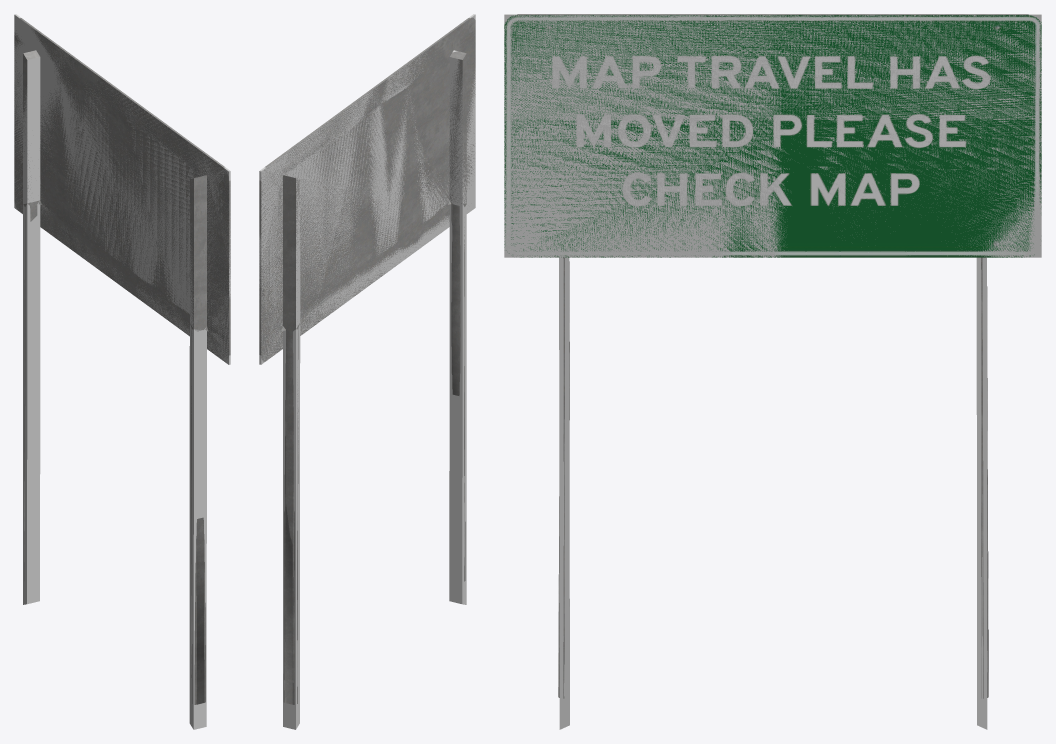
Rendered from rlsstandingsign2.dae.
3 renders of one model, left to right at view 1: azimuth 30°, elevation 25°; view 2: azimuth 150°, elevation 25°; view 3: azimuth 270°, elevation 25°, orthographic. The views are drawn at different scales.
Parts seen in each view (by area): view 1: Colmesh-1, rlssignS2_a50, rlssignS2_a500, rlssignS2_a250; view 2: Colmesh-1, rlssignS2_a500, rlssignS2_a50, rlssignS2_a250; view 3: Colmesh-1, rlssignS2_a50, rlssignS2_a500, rlssignS2_a250.
Part boxes in pixels (x1,y1,x2,y2): Colmesh-1: (14, 14, 230, 729); rlssignS2_a50: (14, 49, 228, 704); rlssignS2_a500: (14, 27, 230, 704); rlssignS2_a250: (14, 18, 230, 704); Colmesh-1: (259, 14, 475, 729); rlssignS2_a500: (259, 18, 475, 704); rlssignS2_a50: (261, 17, 475, 704); rlssignS2_a250: (259, 17, 475, 704); Colmesh-1: (504, 14, 1041, 729); rlssignS2_a50: (504, 15, 1041, 698); rlssignS2_a500: (504, 14, 1041, 697); rlssignS2_a250: (504, 14, 1041, 698).
Bounding box in the file's own units: 0.1188 × 2.96 × 4.35.
